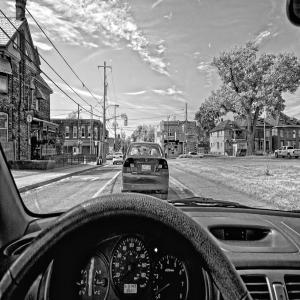Vehicle-registration-plate: (142, 164, 152, 173)
